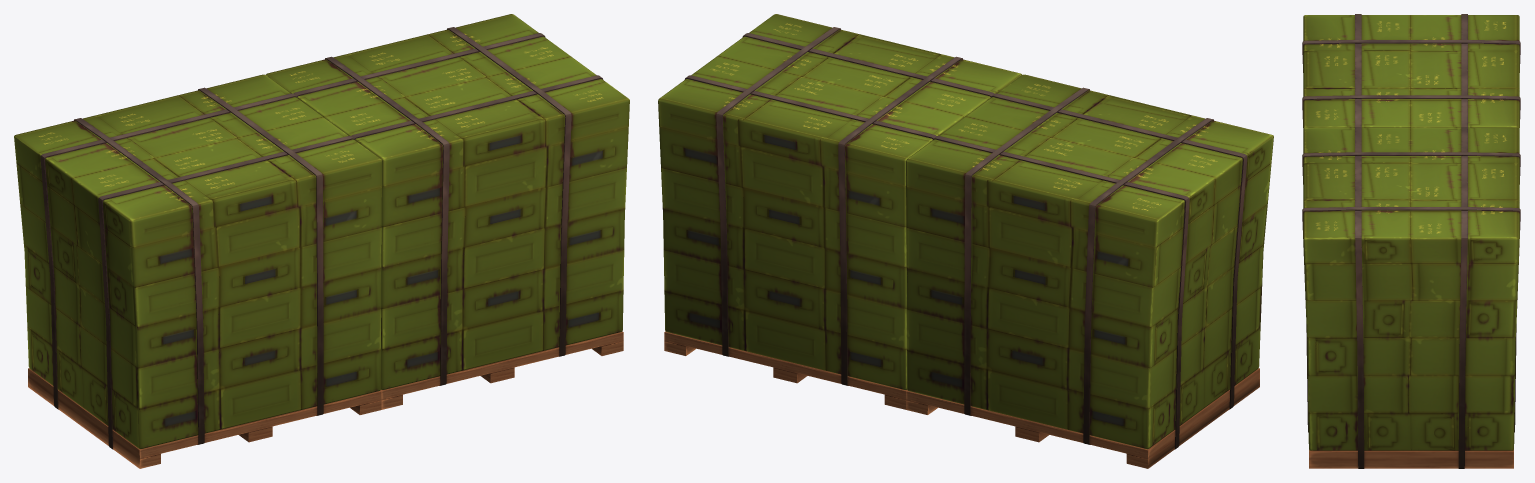
Rendered from AmmoCan02_2.FBX.
3 views of the same model, side by side, from view 1: azimuth 30°, elevation 25°; view 2: azimuth 150°, elevation 25°; view 3: azimuth 270°, elevation 25° (orthographic). The views are drawn at different scales.
Visible parts, largest first — view 1: AmmoCan02_2; view 2: AmmoCan02_2; view 3: AmmoCan02_2.
Boxes of the visible parts, bbox=[...] form: AmmoCan02_2: bbox=[14, 14, 629, 468]; AmmoCan02_2: bbox=[658, 14, 1273, 468]; AmmoCan02_2: bbox=[1302, 14, 1520, 468].
Size of what is drawn, in the model's own units: 2.59 by 1.26 by 1.07.
